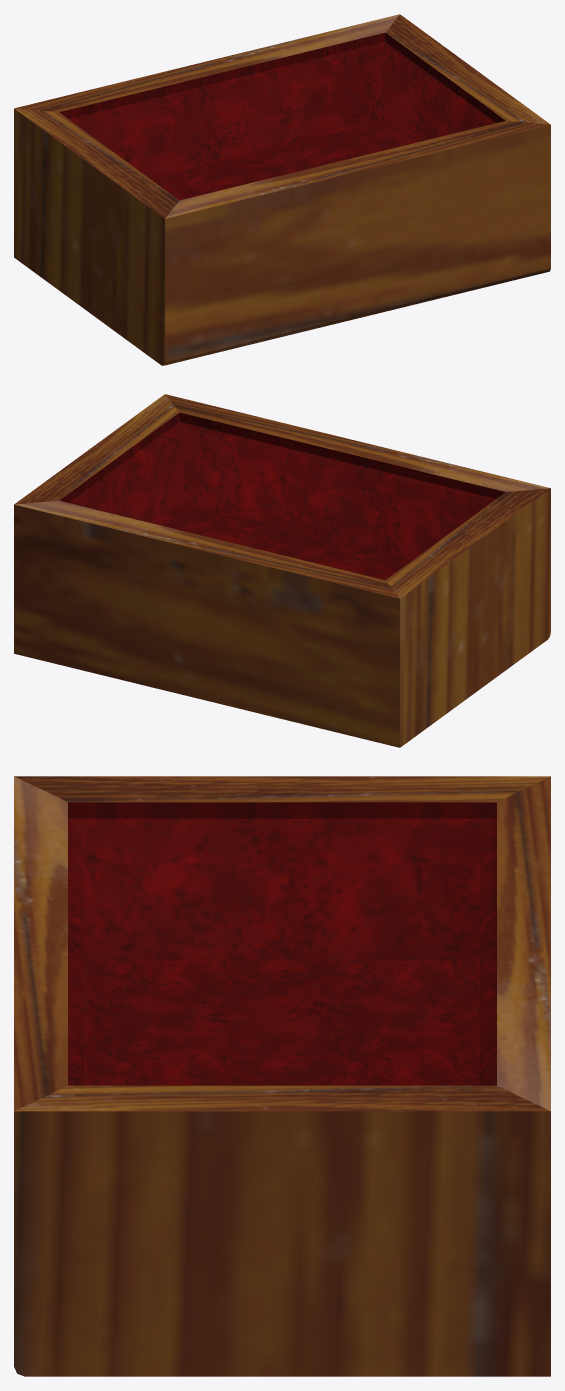
Rendered from DieBox.fbx.
3 views of the same model, one above another, from view 1: azimuth 30°, elevation 25°; view 2: azimuth 150°, elevation 25°; view 3: azimuth 270°, elevation 25° (orthographic). The views are drawn at different scales.
Visible parts, largest first — view 1: Cube; view 2: Cube; view 3: Cube.
Boxes of the visible parts, <box> form: Cube: <box>14,14,550,365</box>; Cube: <box>14,394,550,747</box>; Cube: <box>14,776,550,1376</box>.
Size of the model in its own units: 1607 by 593 by 1088.
